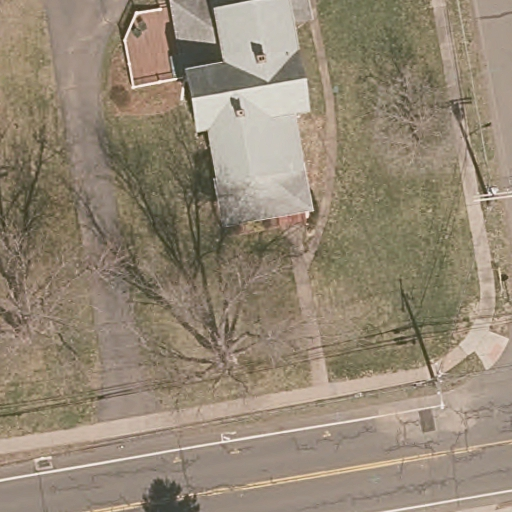DT: (473, 185, 512, 212), (428, 359, 447, 409)
